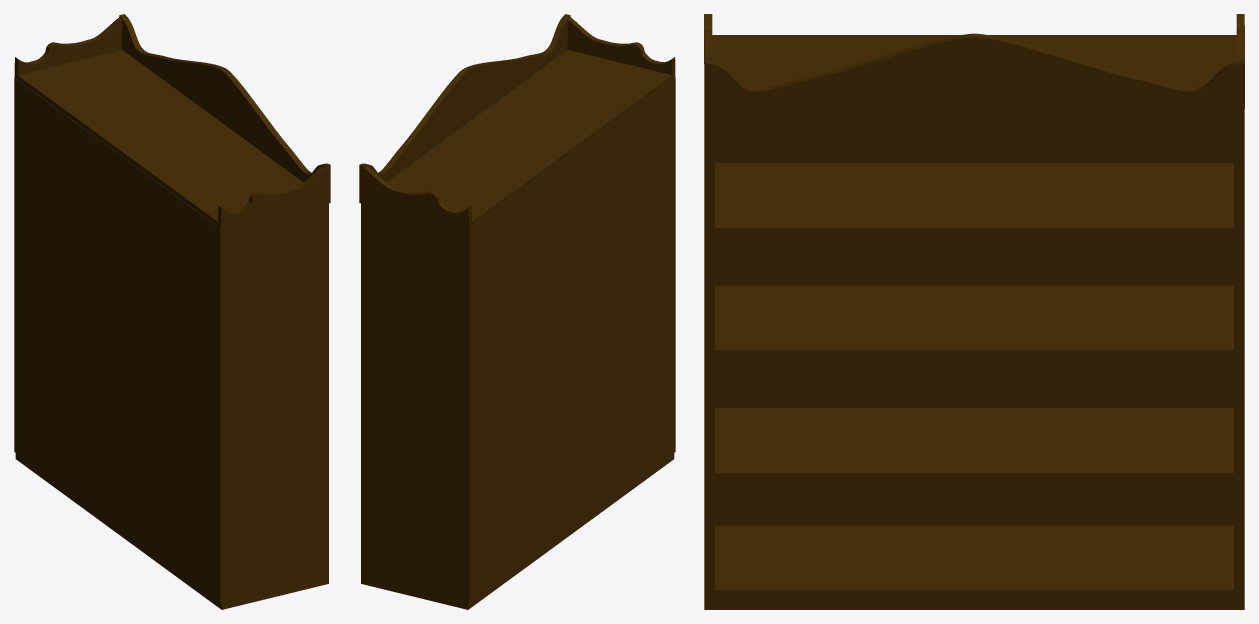
Rendered from LowPolyShelfShattered.glb.
3 views of the same model, side by side, from view 1: azimuth 30°, elevation 25°; view 2: azimuth 150°, elevation 25°; view 3: azimuth 270°, elevation 25° (orthographic). The views are drawn at different scales.
Visible parts, largest first — view 1: Shelf.001, Shelf.006, Shelf.002, Shelf.005; view 2: Shelf.001, Shelf.004, Shelf.002, Shelf.005; view 3: Shelf.001, Shelf.005, Shelf.002, Shelf.007, Shelf.003, Shelf.008, Shelf.004, Shelf.006.
Boxes of the visible parts, box(x1,y1,x2,y2) form: Shelf.001: box(14, 78, 221, 602); Shelf.006: box(221, 203, 328, 601); Shelf.002: box(14, 14, 330, 231); Shelf.005: box(15, 453, 328, 609); Shelf.001: box(462, 78, 675, 602); Shelf.004: box(361, 203, 468, 602); Shelf.002: box(359, 14, 675, 228); Shelf.005: box(361, 453, 674, 609); Shelf.001: box(715, 113, 1233, 525); Shelf.005: box(704, 525, 1244, 609); Shelf.002: box(704, 14, 1244, 113); Shelf.007: box(704, 285, 1244, 360); Shelf.003: box(704, 163, 1244, 237); Shelf.008: box(704, 408, 1244, 482); Shelf.004: box(1234, 112, 1244, 600); Shelf.006: box(704, 112, 714, 594).
Bounding box in the file's own units: 1.24 × 4.69 × 4.
